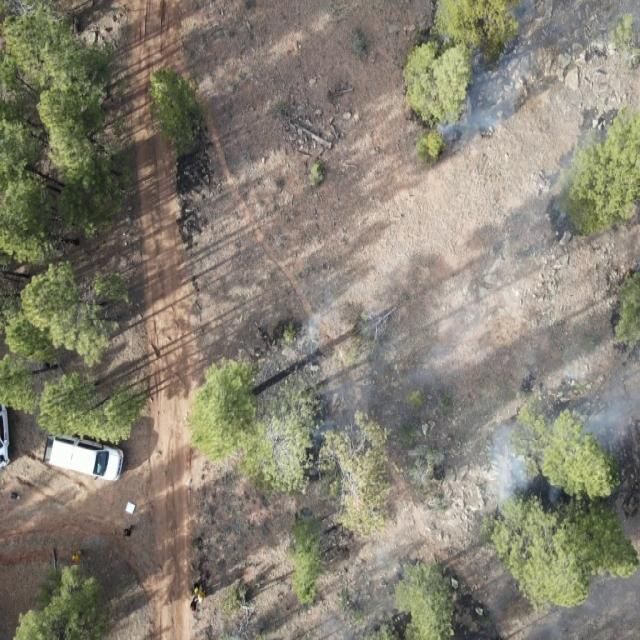smoke: (252, 287, 482, 498), (482, 386, 640, 504), (512, 0, 640, 82), (536, 114, 598, 206), (438, 97, 530, 141), (468, 40, 532, 96), (526, 599, 606, 640), (359, 540, 402, 580)
